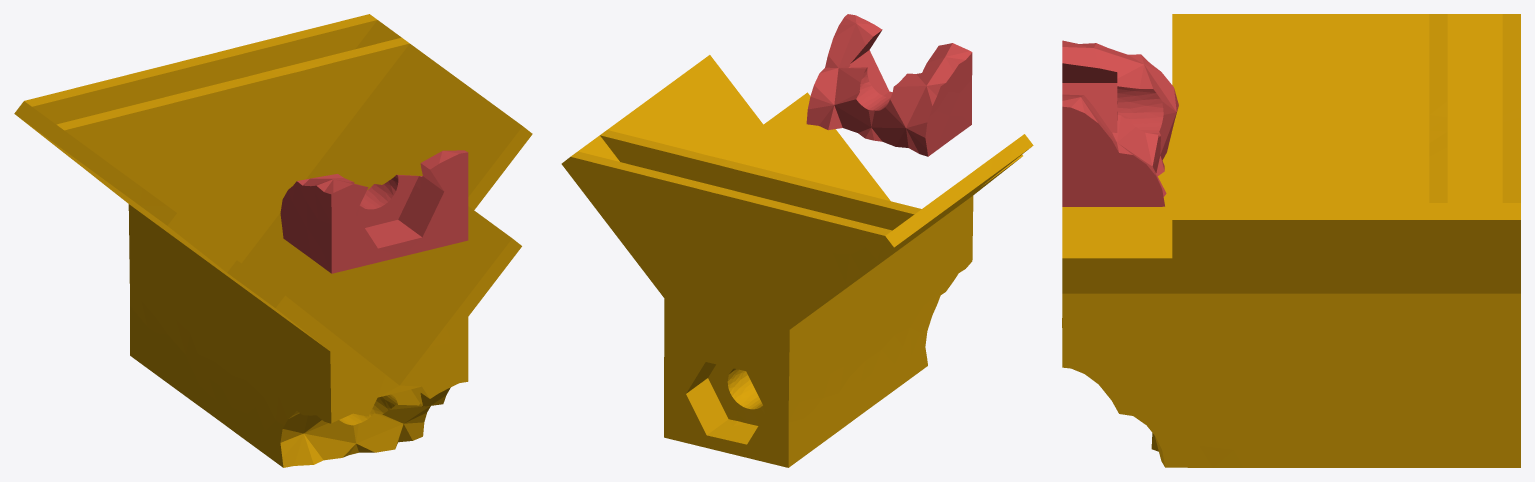
Rendered from fractured_40_2pcs_transformed.glb.
The picture shows the model from 3 angles, left to right: view 1: azimuth 30°, elevation 25°; view 2: azimuth 150°, elevation 25°; view 3: azimuth 270°, elevation 25°; orthographic projection. The views are drawn at different scales.
Parts seen in each view (by area): view 1: piece_0.obj, piece_1.obj; view 2: piece_0.obj, piece_1.obj; view 3: piece_0.obj, piece_1.obj.
Boxes of the visible parts, <box> form: piece_0.obj: <box>14,14,532,467</box>; piece_1.obj: <box>280,150,468,273</box>; piece_0.obj: <box>561,55,1033,467</box>; piece_1.obj: <box>806,14,972,156</box>; piece_0.obj: <box>1062,14,1520,467</box>; piece_1.obj: <box>1062,40,1178,206</box>.
Size of the model in its own units: 1 by 0.8327 by 0.9562.
